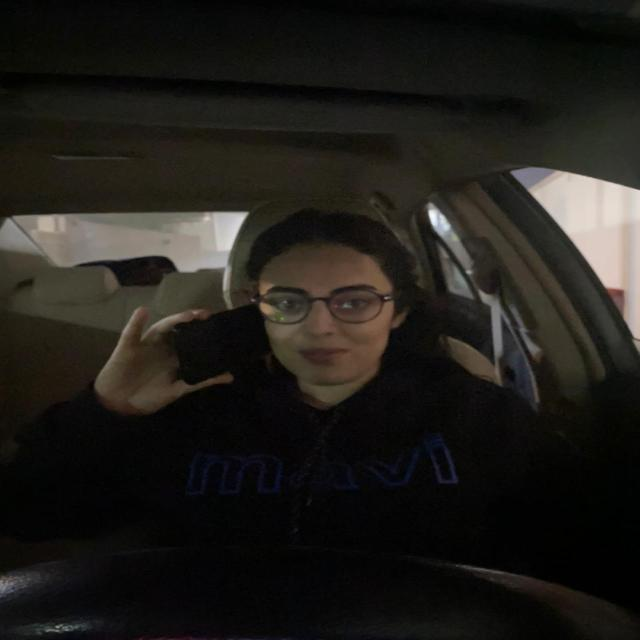phone: (171, 304, 271, 385)
